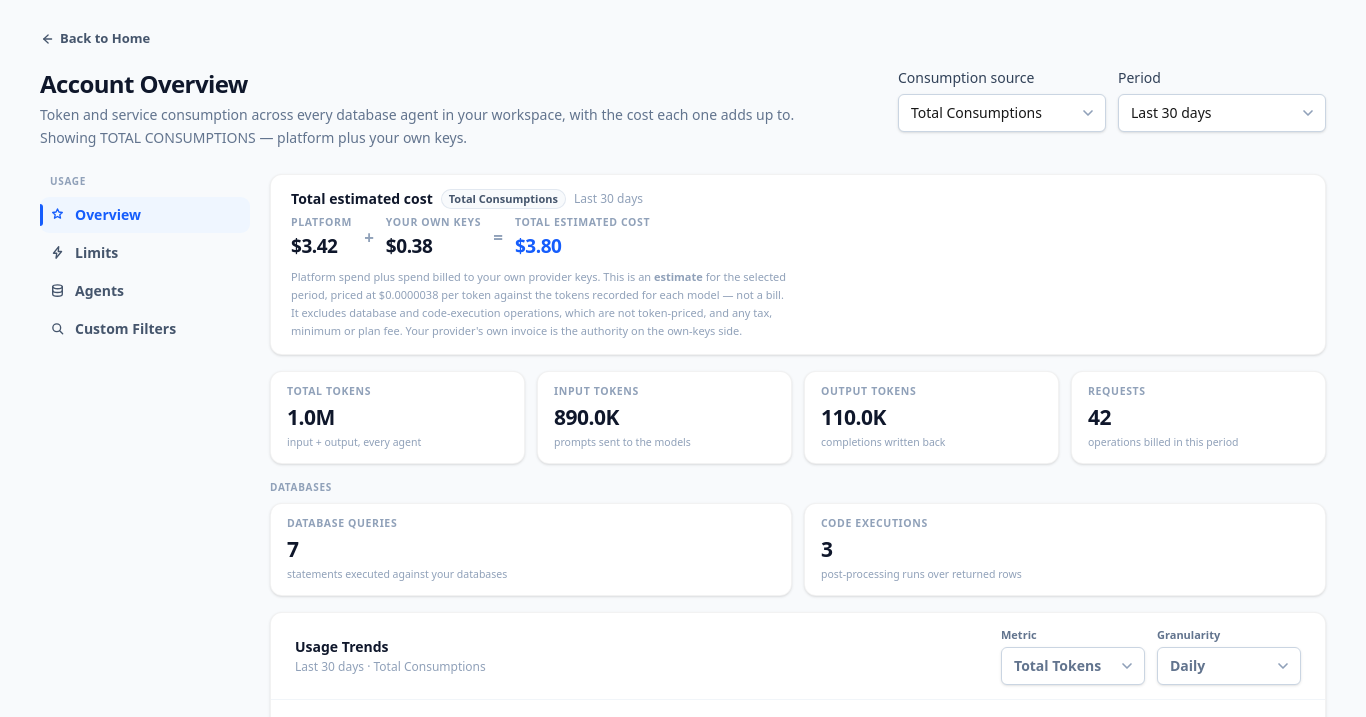
Test case: the breakdown drawer › opens from a metric card with that card's own filter
Click the button "Total Tokens 1.0M input + output, every agent": (398, 417) [270,371,525,464]
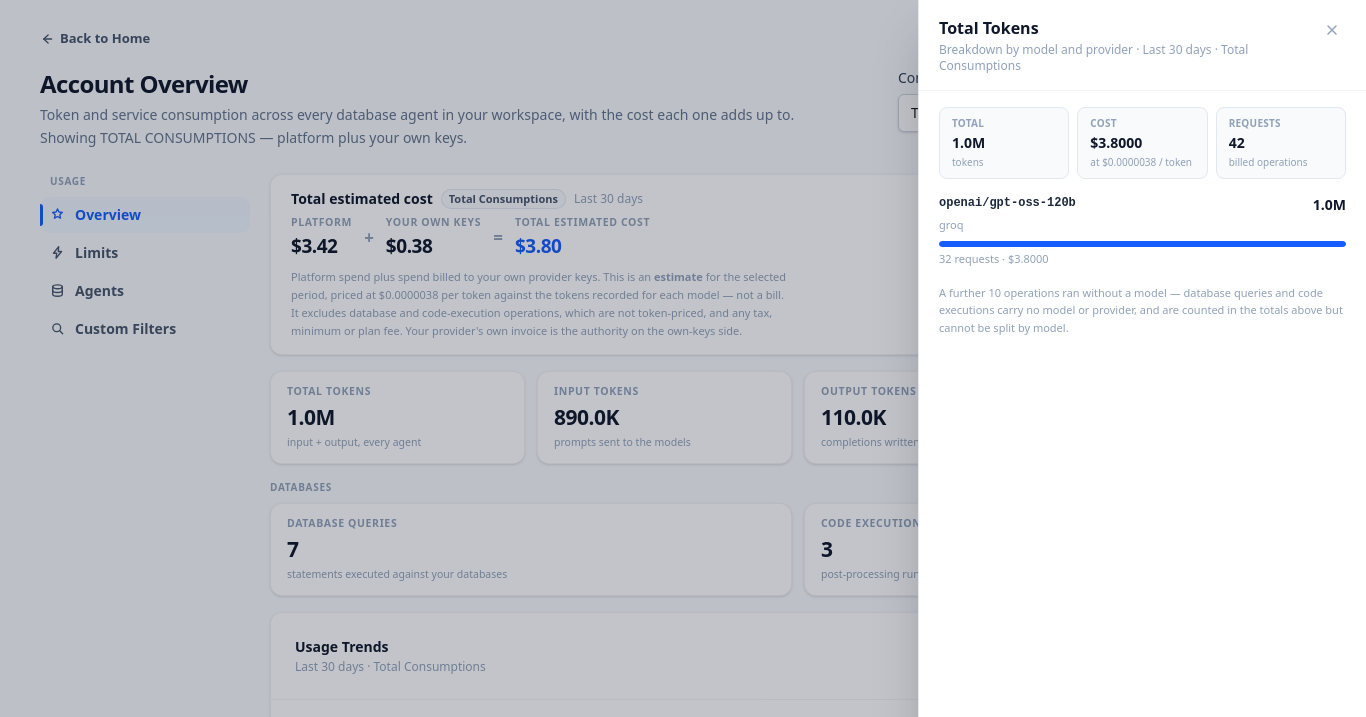
Expected: the dialog shows "Total Tokens", [939,17,1039,39]
Expected: the dialog shows "openai/gpt-oss-120b", [939,196,1076,210]
Expected: the dialog shows "1.0M", [952,133,985,152]
